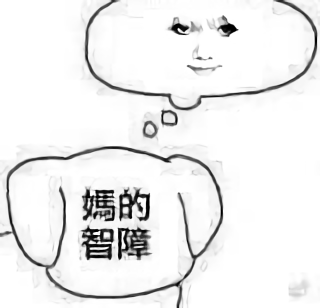dragon: (168, 14, 240, 80)
